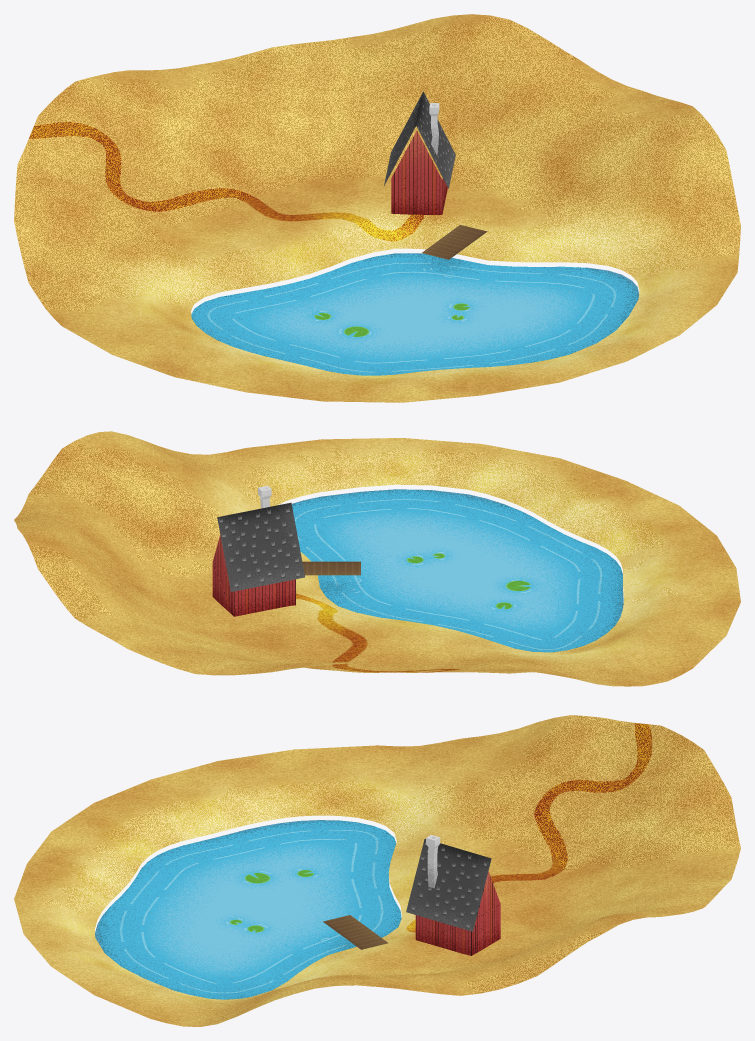
Rendered from house_on_the_lake_ground_mesh.glb.
3 renders of one model, top to bottom at view 1: azimuth 30°, elevation 25°; view 2: azimuth 150°, elevation 25°; view 3: azimuth 270°, elevation 25°, orthographic.
Visible parts, largest first — view 1: ground, house_walls_0, house_roof_top_0, marine; view 2: ground, house_roof_top_0, house_walls_0, marine; view 3: ground, house_roof_top_0, house_walls_0, marine, house_white_0.
Boxes of the visible parts, x1,y1,x2,y2 form: ground: [14, 14, 740, 402]; house_walls_0: [391, 130, 447, 214]; house_roof_top_0: [384, 91, 455, 188]; marine: [422, 225, 487, 259]; ground: [14, 431, 740, 686]; house_roof_top_0: [217, 502, 304, 591]; house_walls_0: [212, 535, 295, 616]; marine: [302, 561, 360, 575]; ground: [14, 715, 740, 1026]; house_roof_top_0: [406, 839, 491, 931]; house_walls_0: [415, 871, 500, 955]; marine: [323, 915, 388, 949]; house_white_0: [426, 835, 440, 888].
Bounding box in the file's own units: 64 × 11.78 × 64.
6 materials, 6 textured.
